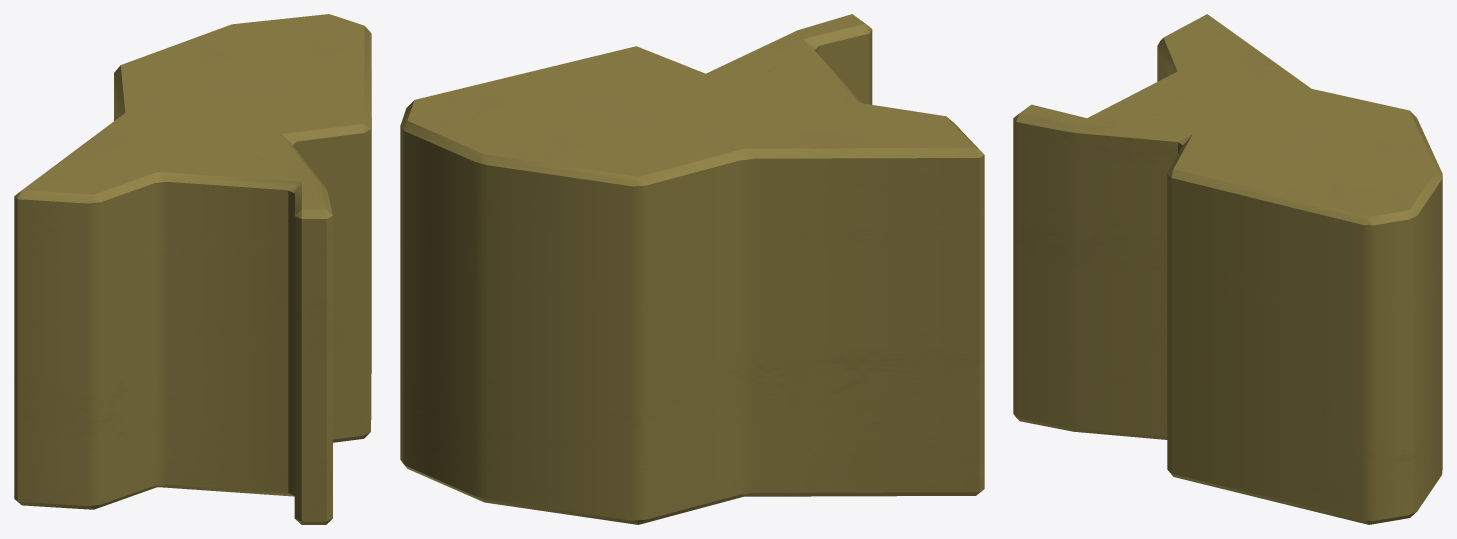
The model's file is netherlands.DAE.
3 views of the same model, side by side, from view 1: azimuth 30°, elevation 25°; view 2: azimuth 150°, elevation 25°; view 3: azimuth 270°, elevation 25° (orthographic). The views are drawn at different scales.
Visible parts, largest first — view 1: Netherlands; view 2: Netherlands; view 3: Netherlands.
Boxes of the visible parts, box(x1,y1,x2,y2) form: Netherlands: box(14, 14, 371, 524); Netherlands: box(400, 14, 984, 524); Netherlands: box(1013, 14, 1442, 524).
Size of the model in its own units: 36.19 by 31.57 by 25.
Materials: 1 (1 with a texture image).
